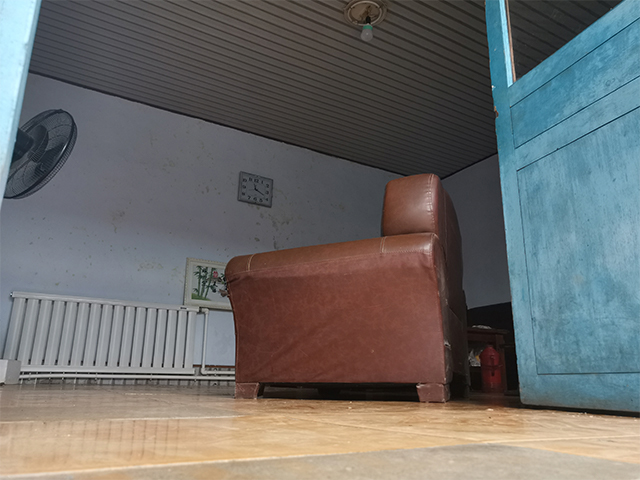sofa: (222, 171, 472, 404)
